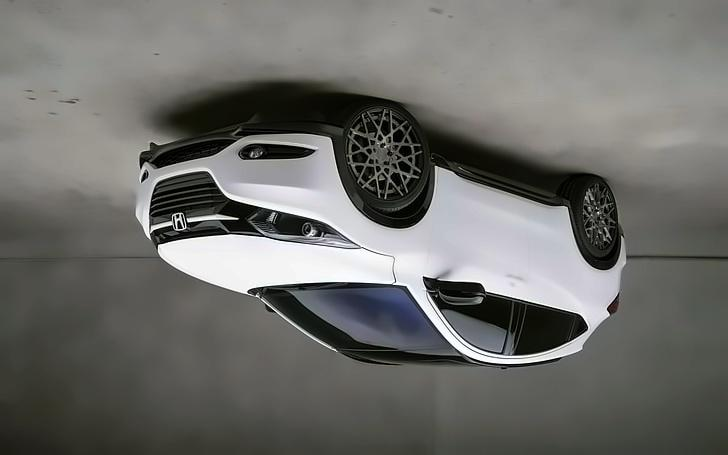Car hood: (154, 231, 396, 295)
Driver-s door - -F-R-: (432, 164, 526, 364)
Fender - -F-R-: (348, 163, 439, 292)
Fender - -R-R-: (581, 257, 620, 319)
Front bumper: (133, 117, 354, 224)
Headlight - -R-: (243, 204, 362, 251)
Passenger-s door - -R-R-: (512, 188, 587, 366)
Rear bumper: (610, 218, 631, 276)
Rear light - -R-: (602, 289, 627, 326)
Side bumper - -R-: (428, 149, 570, 211)
Side mirror - -R-: (423, 274, 487, 311)
